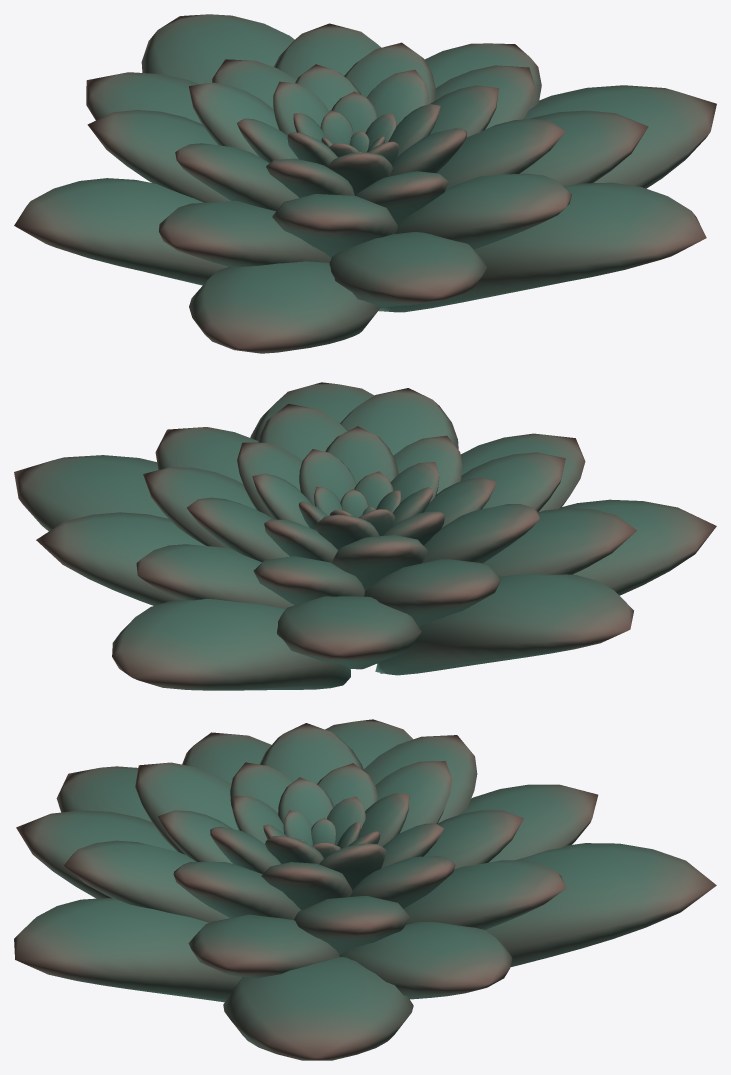
The model's file is succulent.glb.
The picture shows the model from 3 angles, top to bottom: view 1: azimuth 30°, elevation 25°; view 2: azimuth 150°, elevation 25°; view 3: azimuth 270°, elevation 25°; orthographic projection. The views are drawn at different scales.
Parts seen in each view (by area): view 1: SucculentLeaves; view 2: SucculentLeaves; view 3: SucculentLeaves.
Boxes of the visible parts, box(x1,y1,x2,y2) form: SucculentLeaves: box(14, 14, 716, 353); SucculentLeaves: box(14, 382, 716, 690); SucculentLeaves: box(14, 719, 716, 1060).
Size of the model in its own units: 0.4038 by 0.12 by 0.377.
